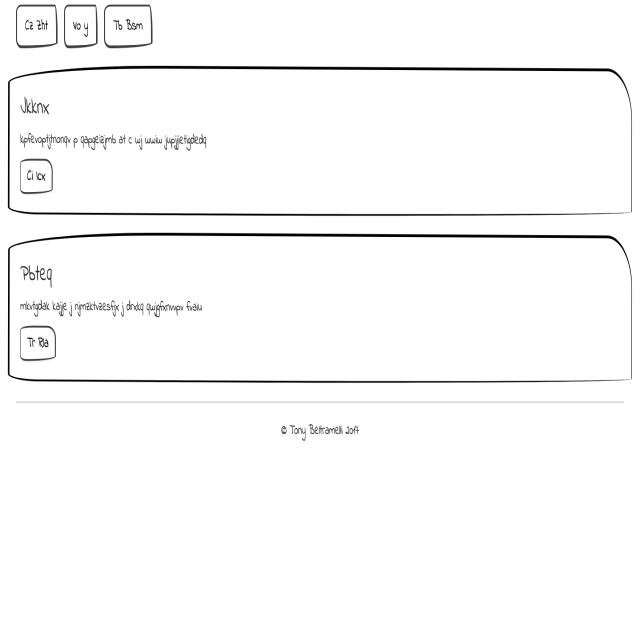Button: (15, 155, 60, 203), (18, 322, 64, 366)
Card: (9, 67, 635, 219), (9, 234, 640, 378)
Footer: (2, 391, 640, 640)
Heading 6: (16, 257, 58, 293), (15, 89, 59, 121)
Navigation Bar: (11, 0, 156, 53)
Paragraph: (19, 128, 209, 158), (16, 294, 206, 319)
